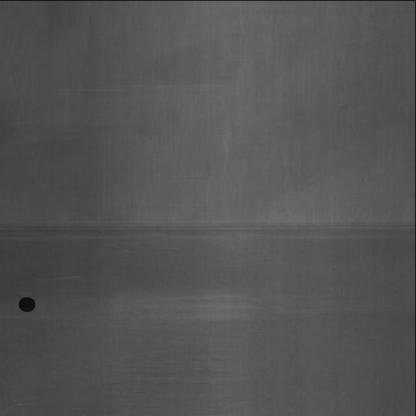punching_hole: (16, 290, 38, 317)
welding_line: (3, 203, 412, 248)
